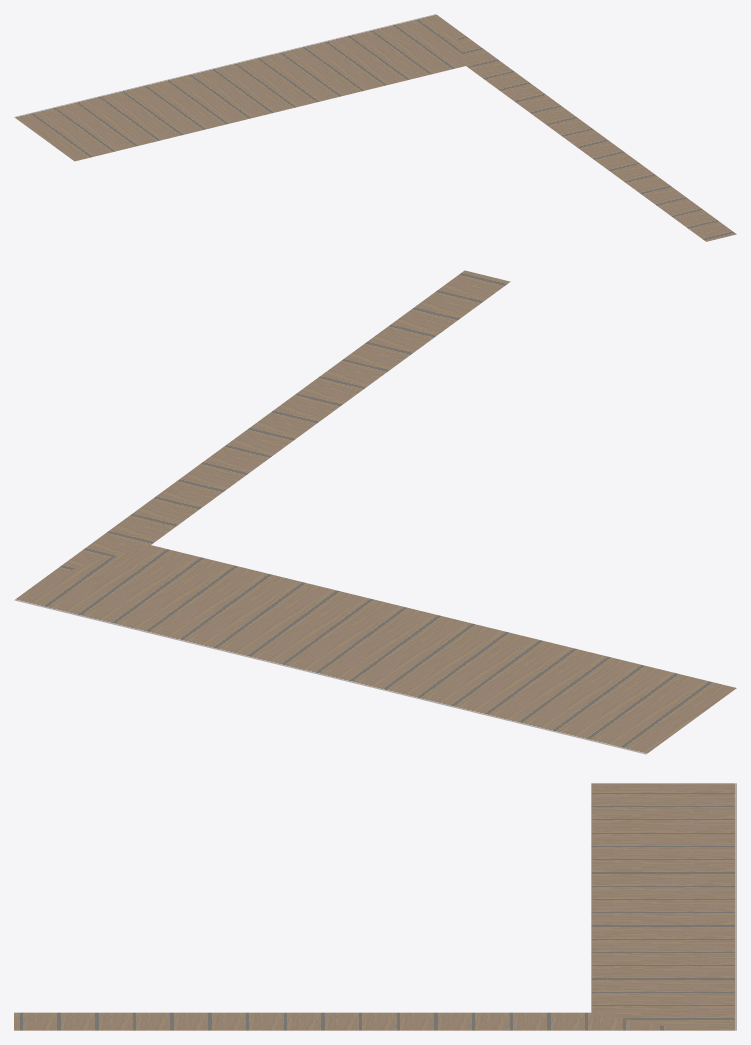
The model's file is kd_stage_135b75_4_92_bounded_portal.glb.
3 renders of one model, top to bottom at view 1: azimuth 30°, elevation 25°; view 2: azimuth 150°, elevation 25°; view 3: azimuth 270°, elevation 25°, orthographic. The views are drawn at different scales.
Parts seen in each view (by area): view 1: kd_stage_135b75_4_92_bounded_portal; view 2: kd_stage_135b75_4_92_bounded_portal; view 3: kd_stage_135b75_4_92_bounded_portal.
Boxes of the visible parts, x1,y1,x2,y2 form: kd_stage_135b75_4_92_bounded_portal: (14, 14, 736, 241); kd_stage_135b75_4_92_bounded_portal: (14, 270, 736, 754); kd_stage_135b75_4_92_bounded_portal: (14, 783, 736, 1030).
Size of the model in its own units: 3.79 by 4.77e-07 by 4.68.
Materials: 1 (1 with a texture image).
